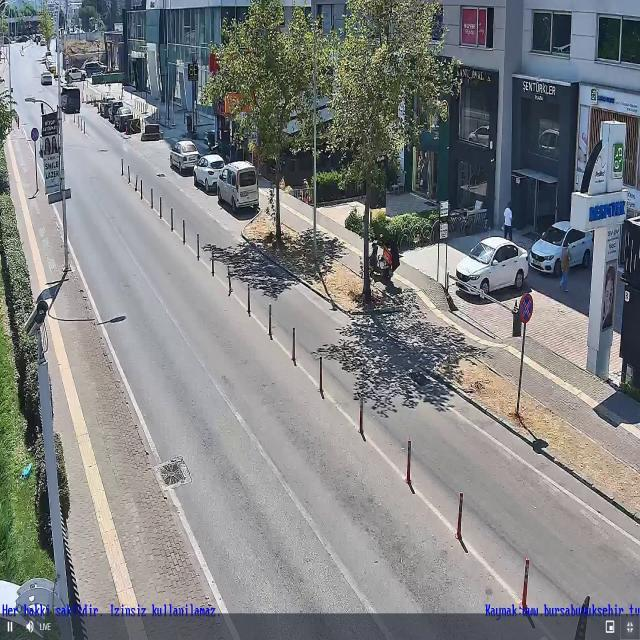car: (457, 234, 531, 304), (534, 215, 598, 278), (218, 160, 258, 212)
